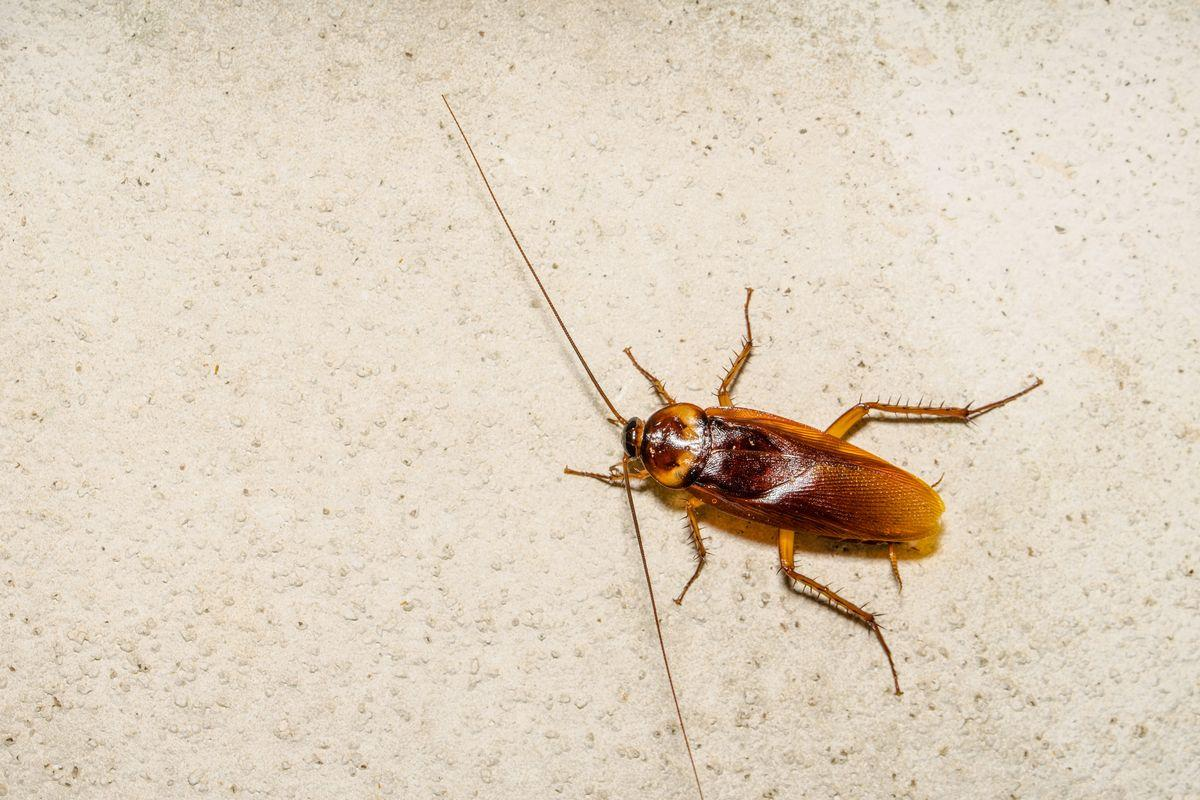cockroach: (598, 346, 952, 588)
